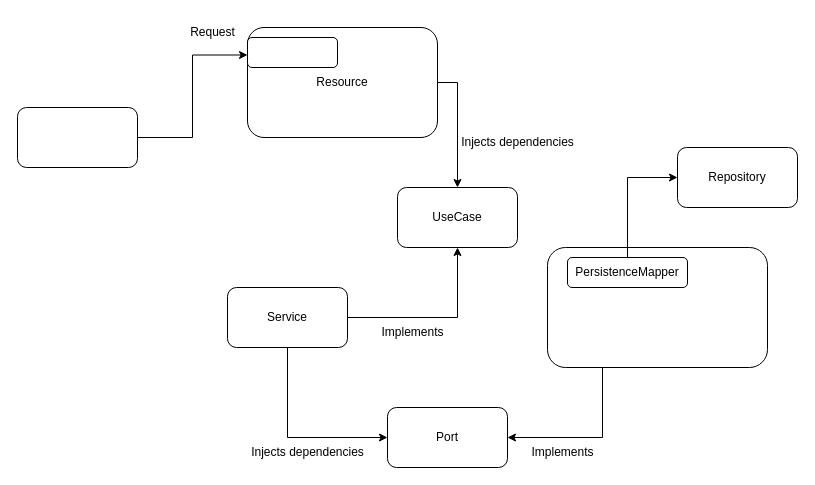
Image size: 815x485. Some labels were removed from this diagram. The box of each missing label's shape, as (x1, y1, x2, y2) in pixels:
Client: (16, 106, 138, 168)
Mapper: (246, 36, 338, 68)
PersistenceService: (546, 246, 768, 368)
